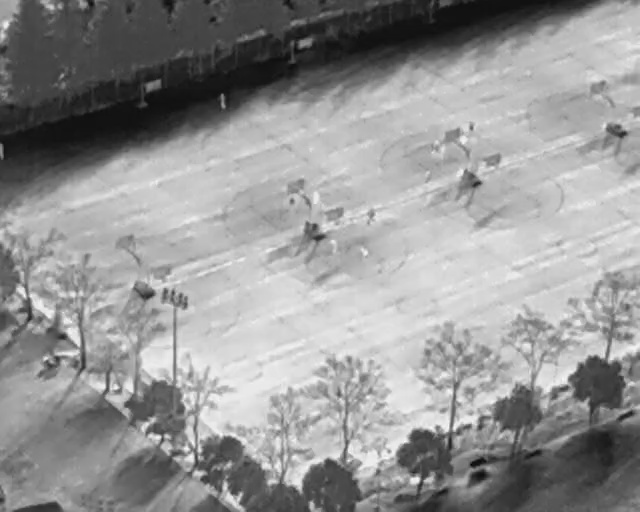Person: (431, 140, 442, 155), (218, 93, 227, 110), (311, 190, 320, 206), (330, 238, 338, 253), (459, 134, 469, 144), (361, 247, 368, 258)
